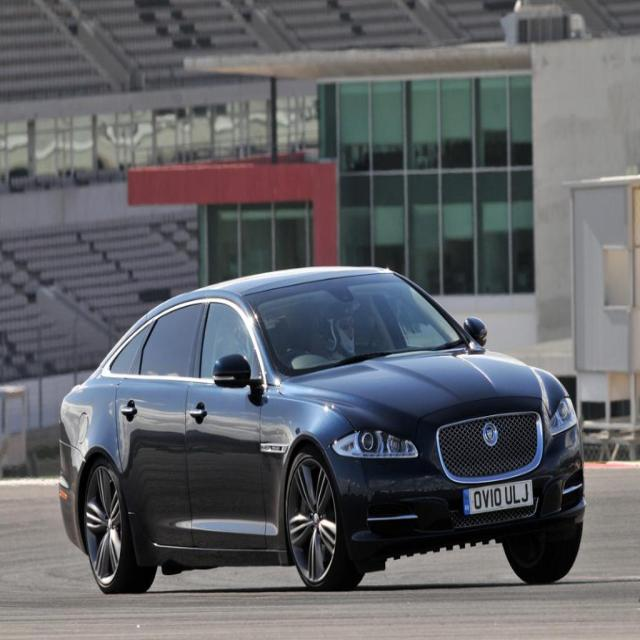car: (57, 257, 585, 590)
